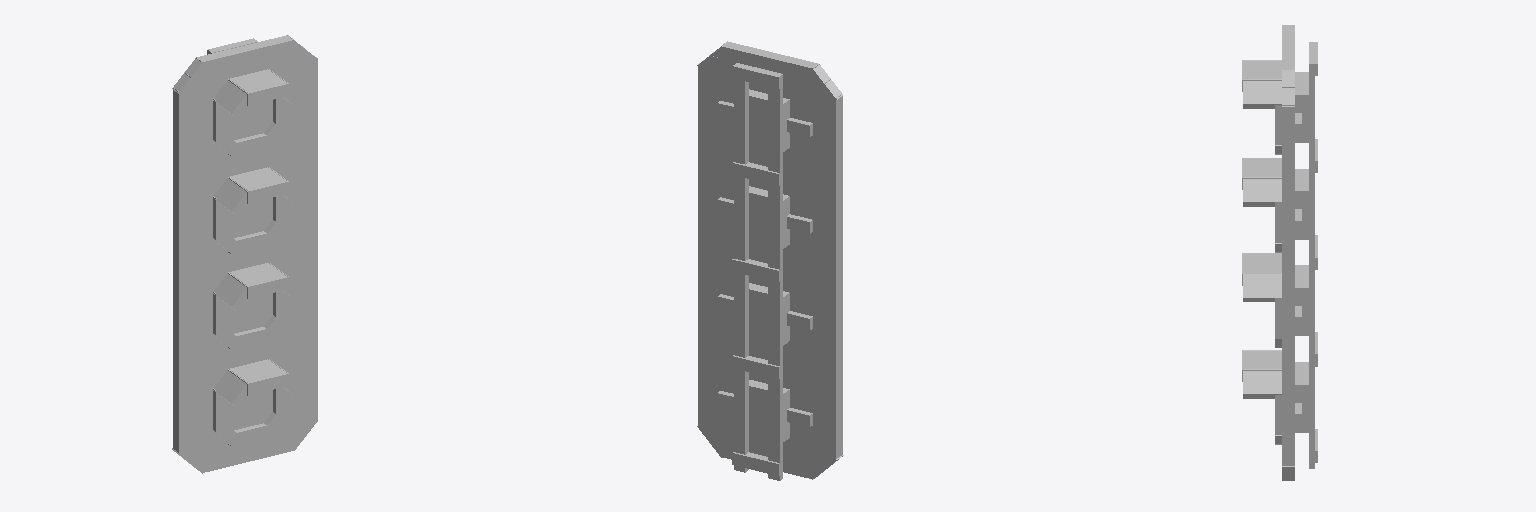
Rendered from 4l_signal_post_1970.obj.
3 renders of one model, left to right at view 1: azimuth 30°, elevation 25°; view 2: azimuth 150°, elevation 25°; view 3: azimuth 270°, elevation 25°, orthographic.
Parts seen in each view (by area): view 1: cube; view 2: cube; view 3: cube.
Boxes of the visible parts, <box> form: cube: <box>172,35,317,473</box>; cube: <box>697,41,843,480</box>; cube: <box>1242,25,1317,480</box>.
Bounding box in the file's own units: 0.8294 × 2.13 × 0.3562.